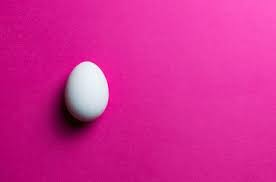egg: (65, 61, 109, 121)
